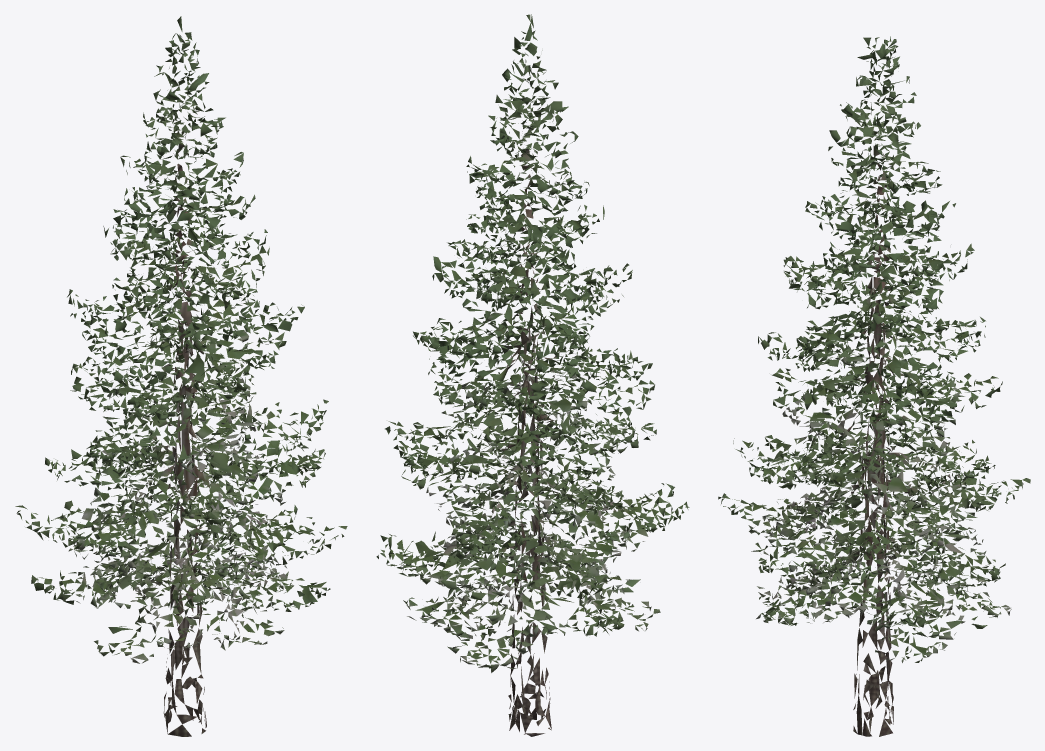
File: tree_43_sitka_spruce_mobile.glb
3 views of the same model, side by side, from view 1: azimuth 30°, elevation 25°; view 2: azimuth 150°, elevation 25°; view 3: azimuth 270°, elevation 25° (orthographic).
Visible parts, largest first — view 1: world; view 2: world; view 3: world.
Part boxes in pixels (x1,y1,x2,y2): world: [15, 16, 347, 736]; world: [376, 14, 689, 736]; world: [718, 36, 1030, 736].
Size of the model in its own units: 0.4078 by 1 by 0.3985.
Materials: 1 (1 with a texture image).
